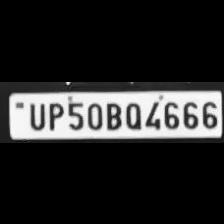0: (85, 98, 103, 130)
4: (143, 97, 161, 129)
5: (64, 98, 84, 130)
6: (198, 97, 218, 128), (180, 97, 198, 128), (162, 97, 178, 128)
B: (103, 98, 121, 130)
P: (44, 99, 64, 131)
Q: (122, 98, 142, 130)
U: (24, 98, 46, 130)
